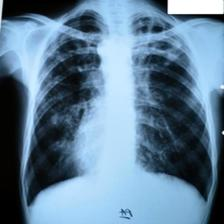tuberculosis: (22, 5, 218, 212)
